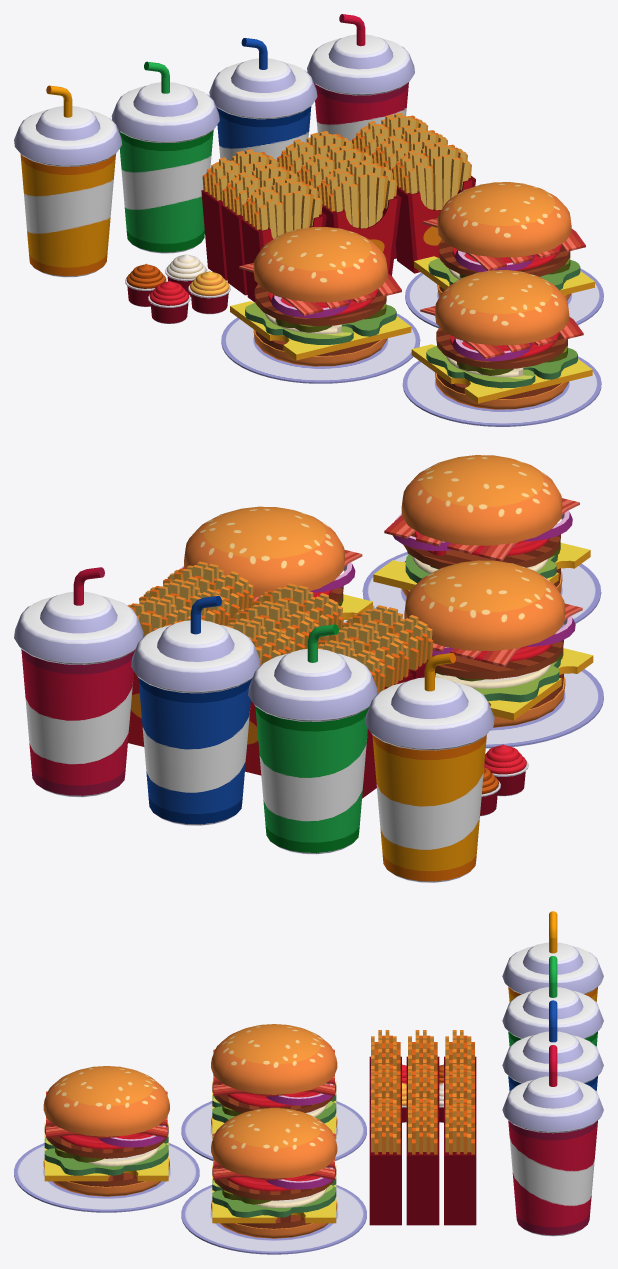
Rendered from maya2sketchfab.fbx.
3 renders of one model, top to bottom at view 1: azimuth 30°, elevation 25°; view 2: azimuth 150°, elevation 25°; view 3: azimuth 270°, elevation 25°, orthographic. The views are drawn at different scales.
Visible parts, largest first — view 1: Bun_Slice_Top (×3), Fizz_Cup1, Fizz_Cup, Food_Plate (×3), Pep_Cup, Cola_Cup, Fries_Box_7, Fries_Box_4, Cheese_Slice2 (×3), Lettuce_Slice2 (×3), Fries_Box_1, Patty_Slice3 (×3) (+13 smaller); view 2: Bun_Slice_Top (×3), Fizz_Cup1, Pep_Cup, Fizz_Cup, Cola_Cup, Food_Plate (×2), Patty_Slice3 (×2), Cheese_Slice2 (×2), Fries_Box_1, Fries_Box_2, Bacon_Slice2 (×2), Fries_Box_6 (+13 smaller); view 3: Bun_Slice_Top (×3), Cola_Cup, Food_Plate (×3), Pep_Cup, Fizz_Cup1, Fizz_Cup, Fries_Box_8, Fries_Box_9, Fries_Box_7, Lettuce_Slice2 (×3), Patty_Slice3 (×3), Cheese_Slice2 (×2) (+12 smaller).
Boxes of the visible parts, box(x1,y1,x2,y2) form: Bun_Slice_Top (×3): box(253, 182, 571, 345); Fizz_Cup1: box(14, 85, 121, 277); Fizz_Cup: box(111, 61, 219, 253); Food_Plate (×3): box(221, 268, 603, 426); Pep_Cup: box(209, 38, 317, 160); Cola_Cup: box(307, 14, 414, 141); Fries_Box_7: box(391, 142, 475, 273); Fries_Box_4: box(317, 160, 401, 275); Cheese_Slice2 (×3): box(230, 256, 594, 403); Lettuce_Slice2 (×3): box(245, 258, 580, 388); Fries_Box_1: box(241, 178, 326, 302); Patty_Slice3 (×3): box(254, 239, 570, 369); Bun_Slice_Top (×3): box(184, 455, 565, 650); Fizz_Cup1: box(365, 653, 494, 882); Pep_Cup: box(131, 596, 260, 825); Fizz_Cup: box(248, 624, 377, 854); Cola_Cup: box(14, 567, 143, 797); Food_Plate (×2): box(362, 552, 603, 748); Patty_Slice3 (×2): box(403, 532, 563, 679); Cheese_Slice2 (×2): box(373, 542, 593, 720); Fries_Box_1: box(342, 605, 435, 679); Fries_Box_2: box(318, 622, 412, 688); Bacon_Slice2 (×2): box(384, 498, 582, 667); Fries_Box_6: box(224, 618, 295, 775); Bun_Slice_Top (×3): box(43, 1024, 337, 1178); Cola_Cup: box(502, 1045, 603, 1236); Food_Plate (×3): box(14, 1101, 366, 1254); Pep_Cup: box(502, 1000, 603, 1090); Fizz_Cup1: box(502, 911, 603, 1001); Fizz_Cup: box(502, 956, 603, 1046); Fries_Box_8: box(406, 1098, 439, 1225); Fries_Box_9: box(444, 1098, 476, 1225); Fries_Box_7: box(369, 1098, 401, 1225); Lettuce_Slice2 (×3): box(44, 1092, 336, 1217); Patty_Slice3 (×3): box(44, 1082, 336, 1200); Cheese_Slice2 (×2): box(44, 1123, 336, 1223).
Bounding box in the file's own units: 73.2 × 30.09 × 95.17.
Materials: 20 (20 with a texture image).
